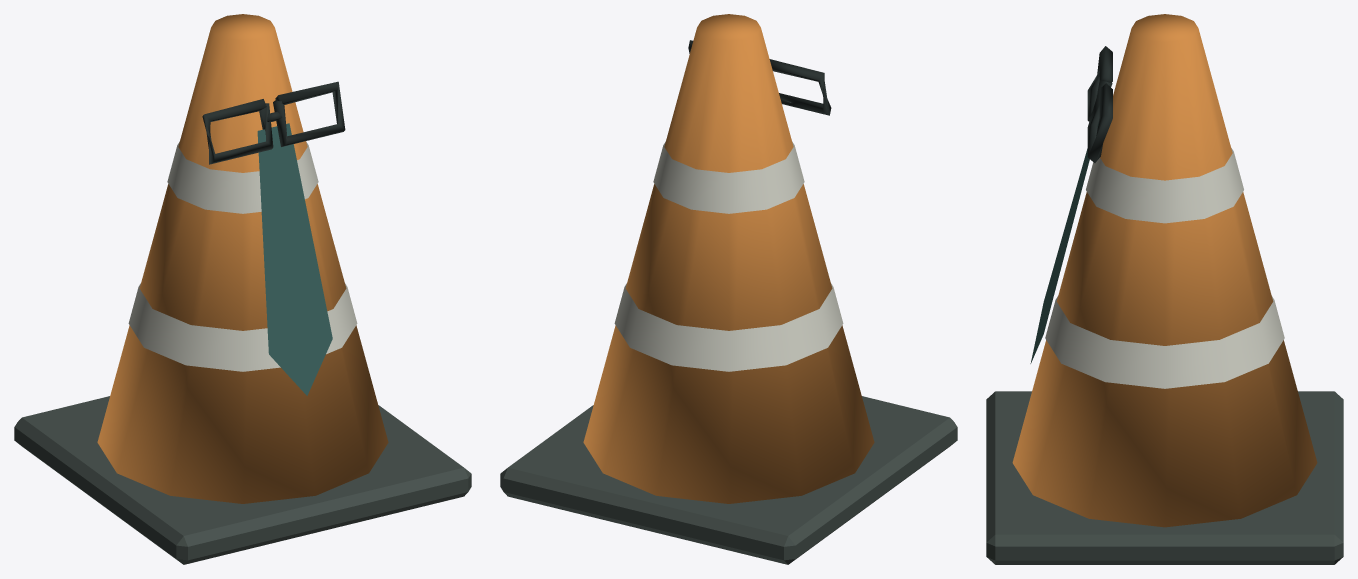
The model's file is cone-chef-v01.glb.
3 views of the same model, side by side, from view 1: azimuth 30°, elevation 25°; view 2: azimuth 150°, elevation 25°; view 3: azimuth 270°, elevation 25° (orthographic). The views are drawn at different scales.
Visible parts, largest first — view 1: Cône de chantier, Pied du responsable travaux, Cravate du chef de chantier, Bande réfléchissante, Bande réfléchissante.001, Lunettes du chef.001, Lunettes du chef; view 2: Cône de chantier, Pied du responsable travaux, Bande réfléchissante, Bande réfléchissante.001, Lunettes du chef; view 3: Cône de chantier, Pied du responsable travaux, Bande réfléchissante, Bande réfléchissante.001, Cravate du chef de chantier, Lunettes du chef.001, Lunettes du chef.
Boxes of the visible parts, x1,y1,x2,y2 form: Cône de chantier: [97, 14, 388, 503]; Pied du responsable travaux: [14, 396, 471, 564]; Cravate du chef de chantier: [257, 123, 332, 395]; Bande réfléchissante: [128, 283, 357, 371]; Bande réfléchissante.001: [167, 141, 318, 213]; Lunettes du chef.001: [273, 81, 345, 146]; Lunettes du chef: [202, 99, 273, 164]; Cône de chantier: [583, 14, 874, 503]; Pied du responsable travaux: [500, 396, 957, 564]; Bande réfléchissante: [614, 283, 843, 371]; Bande réfléchissante.001: [653, 141, 804, 213]; Lunettes du chef: [769, 59, 831, 115]; Cône de chantier: [1012, 14, 1317, 527]; Pied du responsable travaux: [986, 391, 1343, 564]; Bande réfléchissante: [1045, 296, 1284, 388]; Bande réfléchissante.001: [1086, 148, 1243, 223]; Cravate du chef de chantier: [1030, 123, 1098, 363]; Lunettes du chef.001: [1087, 83, 1112, 162]; Lunettes du chef: [1087, 46, 1112, 121].
Size of the model in its own units: 0.48 by 0.69 by 0.48.
